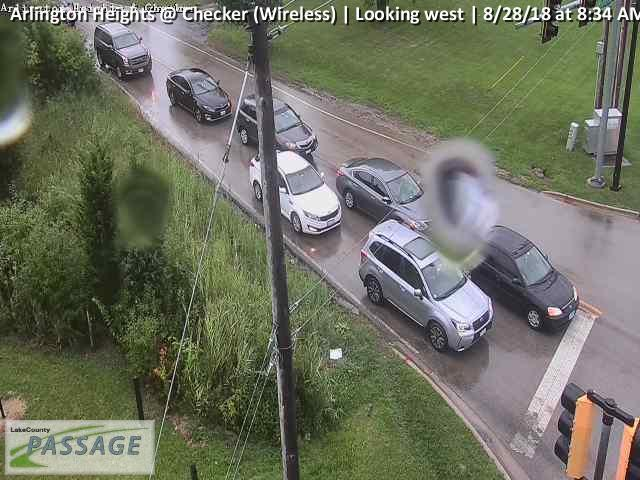SUV: (356, 219, 495, 355), (94, 23, 154, 80)
Sedan: (453, 223, 579, 332), (335, 158, 441, 240), (248, 150, 343, 236), (235, 96, 318, 159), (164, 68, 232, 124)
